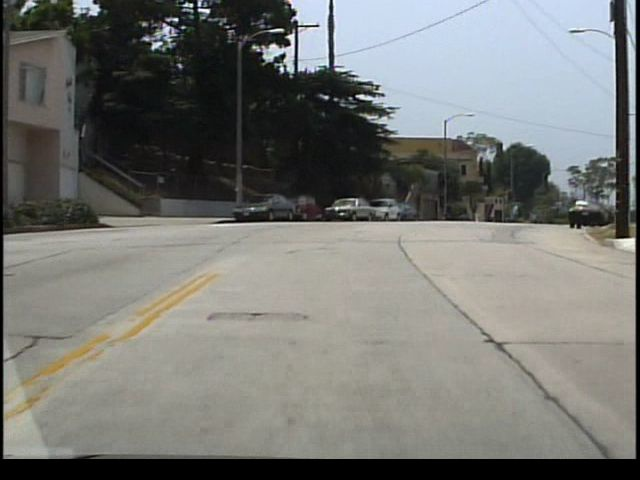person: (513, 203, 521, 224)
